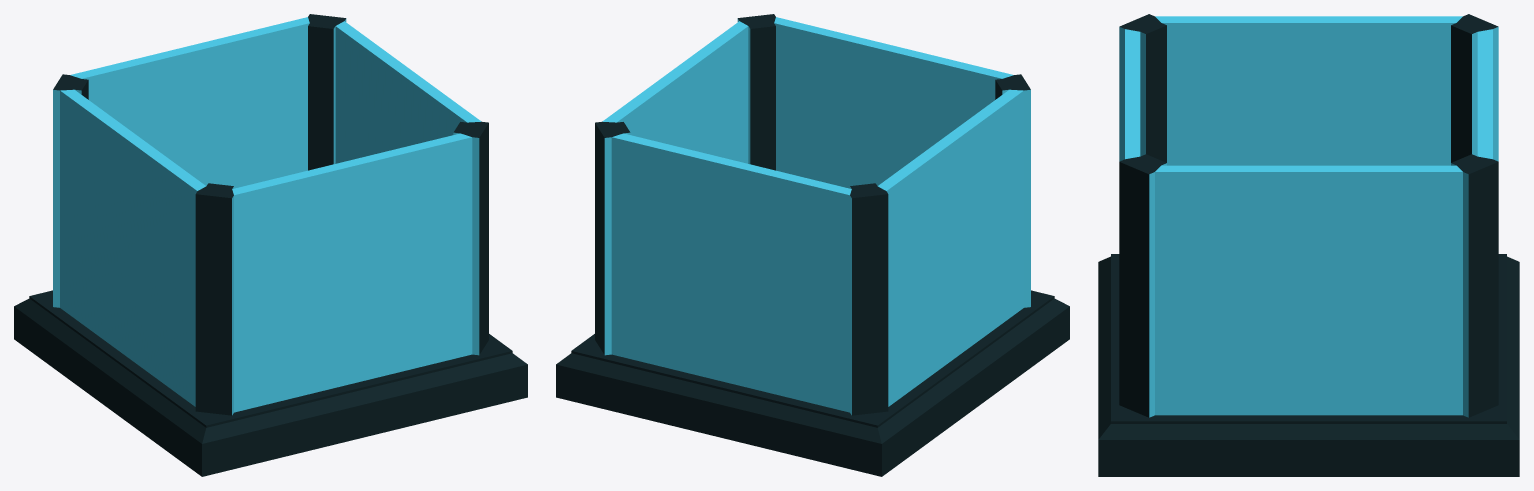
The model's file is Seal Tank.fbx.
The picture shows the model from 3 angles, left to right: view 1: azimuth 30°, elevation 25°; view 2: azimuth 150°, elevation 25°; view 3: azimuth 270°, elevation 25°; orthographic projection. The views are drawn at different scales.
Visible parts, largest first — view 1: Cube; view 2: Cube; view 3: Cube.
Boxes of the visible parts, box(x1,y1,x2,y2) form: Cube: box(14, 14, 527, 476); Cube: box(556, 14, 1069, 476); Cube: box(1098, 14, 1519, 476).
Bounding box in the file's own units: 603 × 464 × 603.
